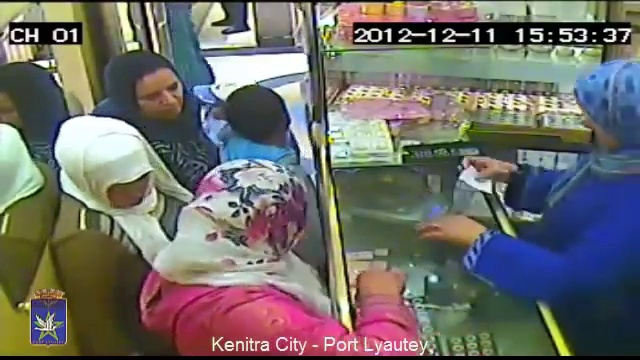face: (136, 70, 180, 117), (110, 175, 154, 208)
